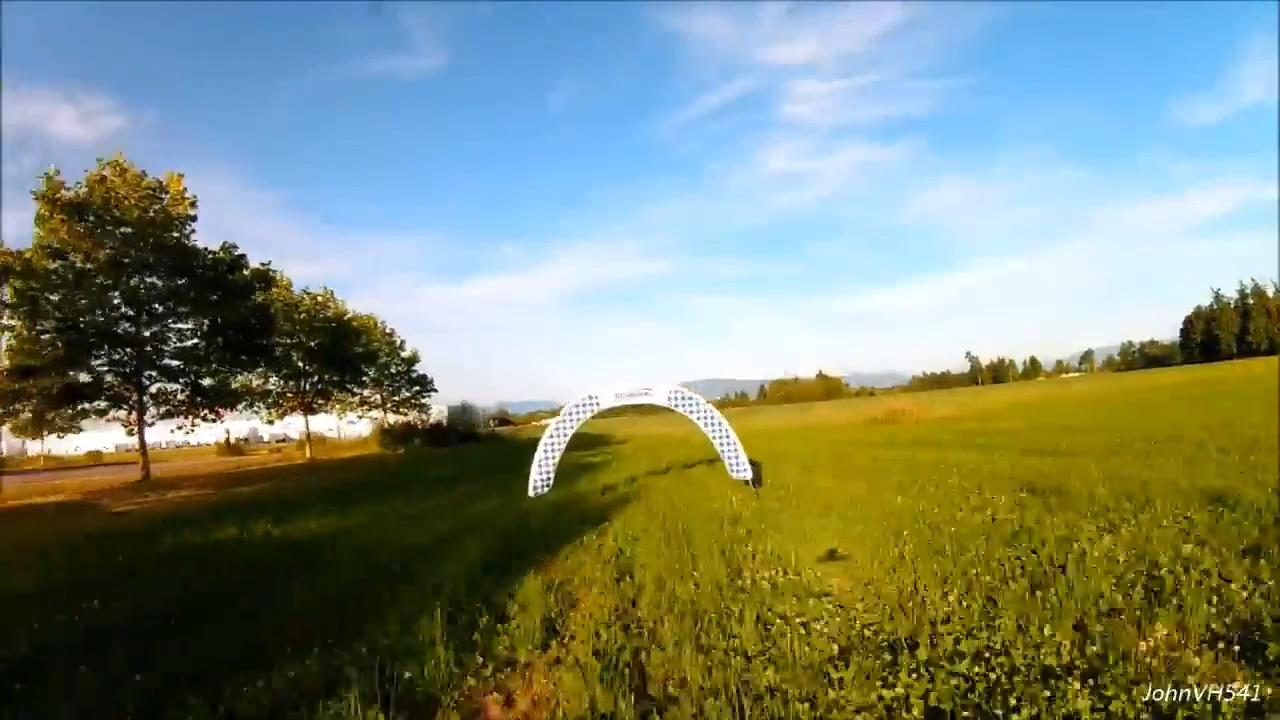gate: (528, 385, 753, 494)
